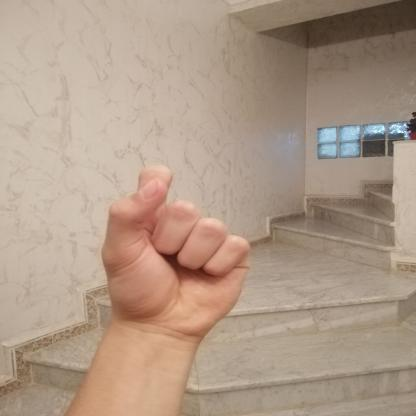FAA: (82, 154, 268, 348)
